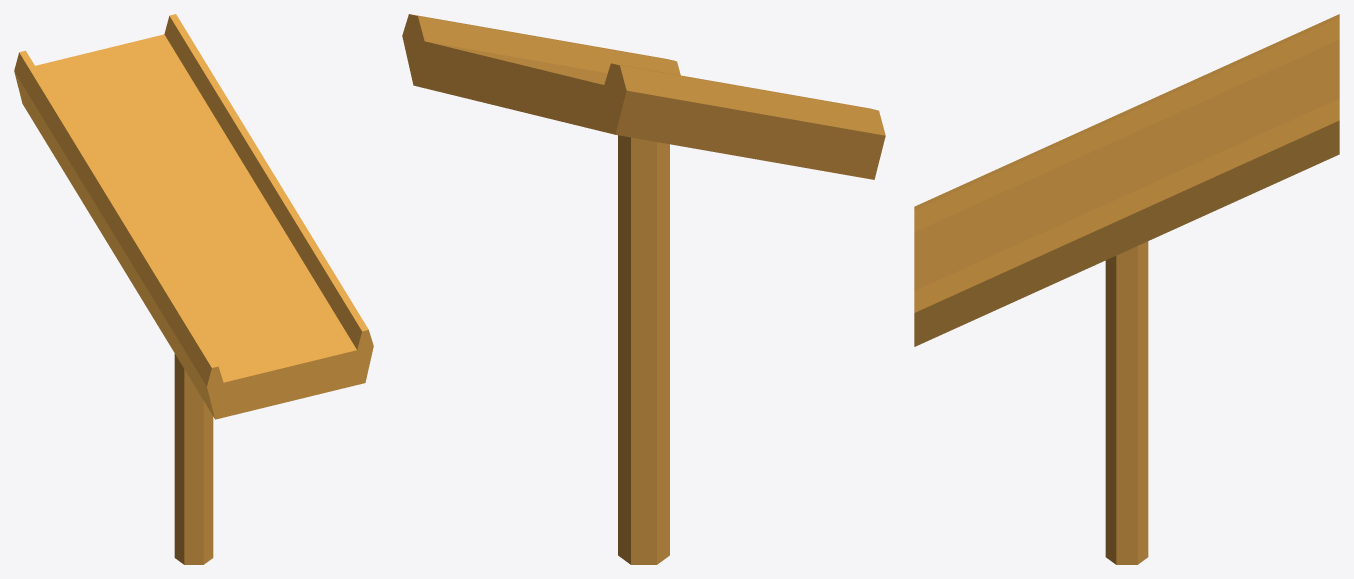
Rendered from scifi-belt-moving-up.glb.
3 views of the same model, side by side, from view 1: azimuth 30°, elevation 25°; view 2: azimuth 150°, elevation 25°; view 3: azimuth 270°, elevation 25° (orthographic). The views are drawn at different scales.
Parts seen in each view (by area): view 1: belt-moving-up; view 2: belt-moving-up; view 3: belt-moving-up.
Part boxes in pixels (<box>): belt-moving-up: <box>14,14,373,564</box>; belt-moving-up: <box>402,14,885,564</box>; belt-moving-up: <box>914,14,1339,564</box>.
Size of the model in its own units: 1 by 2.6 by 2.
